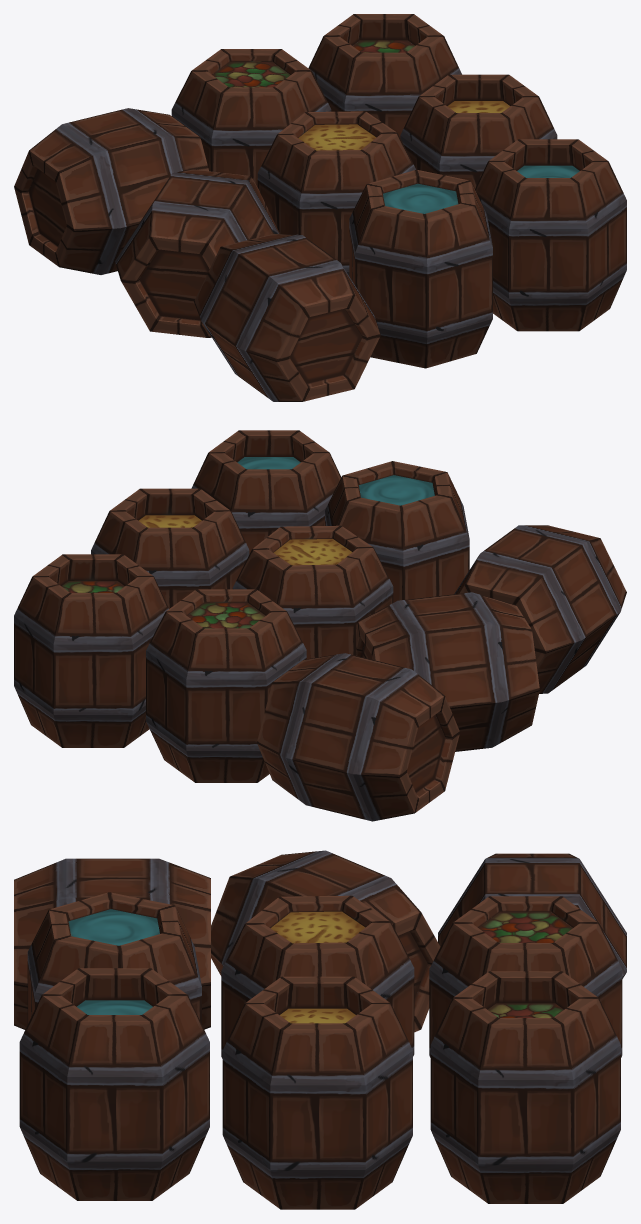
The model's file is wooden_barrels.glb.
The picture shows the model from 3 angles, top to bottom: view 1: azimuth 30°, elevation 25°; view 2: azimuth 150°, elevation 25°; view 3: azimuth 270°, elevation 25°; orthographic projection. The views are drawn at different scales.
Parts seen in each view (by area): view 1: Cylinder.005, Cylinder.003, Cylinder.008, Cylinder.000, Cylinder.007, Cylinder.004, Cylinder.001, Cylinder.002, Cylinder.006; view 2: Cylinder.000, Cylinder.002, Cylinder.001, Cylinder.007, Cylinder.008, Cylinder.003, Cylinder.004, Cylinder.006, Cylinder.005; view 3: Cylinder.006, Cylinder.005, Cylinder.002, Cylinder.004, Cylinder.001, Cylinder.003, Cylinder.008, Cylinder.007, Cylinder.000.
Part boxes in pixels (<box>): Cylinder.005: <box>475,139,626,331</box>; Cylinder.003: <box>349,169,492,368</box>; Cylinder.008: <box>194,233,380,401</box>; Cylinder.000: <box>14,108,208,274</box>; Cylinder.007: <box>115,169,279,337</box>; Cylinder.004: <box>257,111,415,275</box>; Cylinder.001: <box>171,49,331,186</box>; Cylinder.002: <box>308,14,461,137</box>; Cylinder.006: <box>400,74,557,188</box>; Cylinder.000: <box>257,653,460,821</box>; Cylinder.002: <box>14,554,168,747</box>; Cylinder.001: <box>146,589,306,782</box>; Cylinder.007: <box>356,592,539,751</box>; Cylinder.008: <box>454,525,626,693</box>; Cylinder.003: <box>325,461,469,602</box>; Cylinder.004: <box>232,525,393,659</box>; Cylinder.006: <box>91,488,249,608</box>; Cylinder.005: <box>191,430,341,553</box>; Cylinder.006: <box>222,976,412,1209</box>; Cylinder.005: <box>19,968,209,1200</box>; Cylinder.002: <box>430,971,620,1203</box>; Cylinder.004: <box>221,895,414,1058</box>; Cylinder.001: <box>429,896,622,1057</box>; Cylinder.003: <box>27,892,201,1024</box>; Cylinder.008: <box>14,858,210,1029</box>; Cylinder.007: <box>211,850,440,1032</box>; Cylinder.000: <box>438,853,626,978</box>.
Bounding box in the file's own units: 444 × 155 × 461.
Materials: 4 (4 with a texture image).
